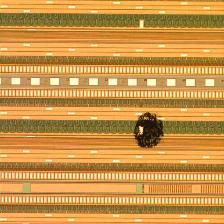PARTICLE: (131, 111, 171, 151)
